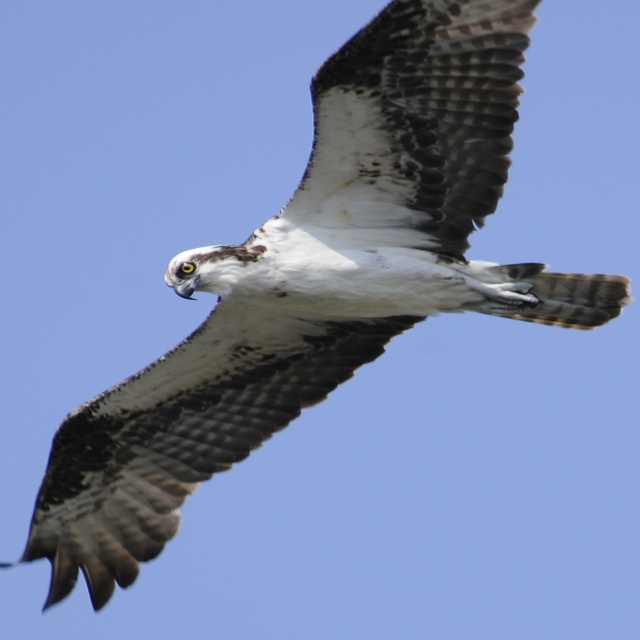Eagle: (0, 0, 634, 617)
